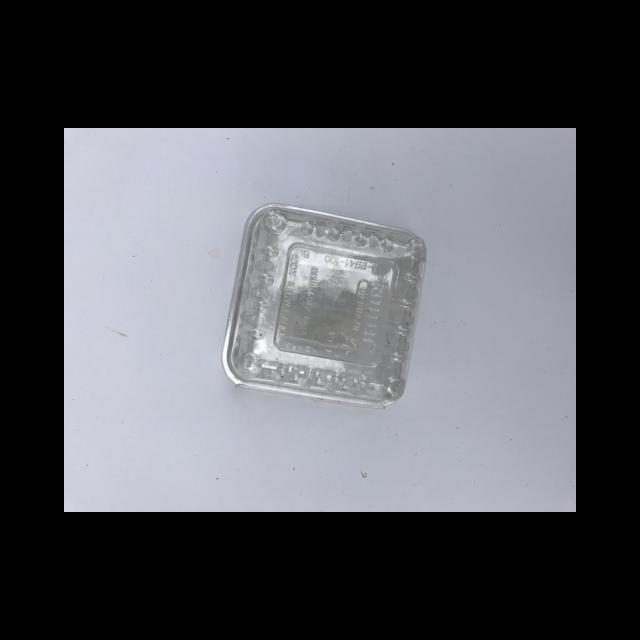plastic: (218, 202, 426, 409)
